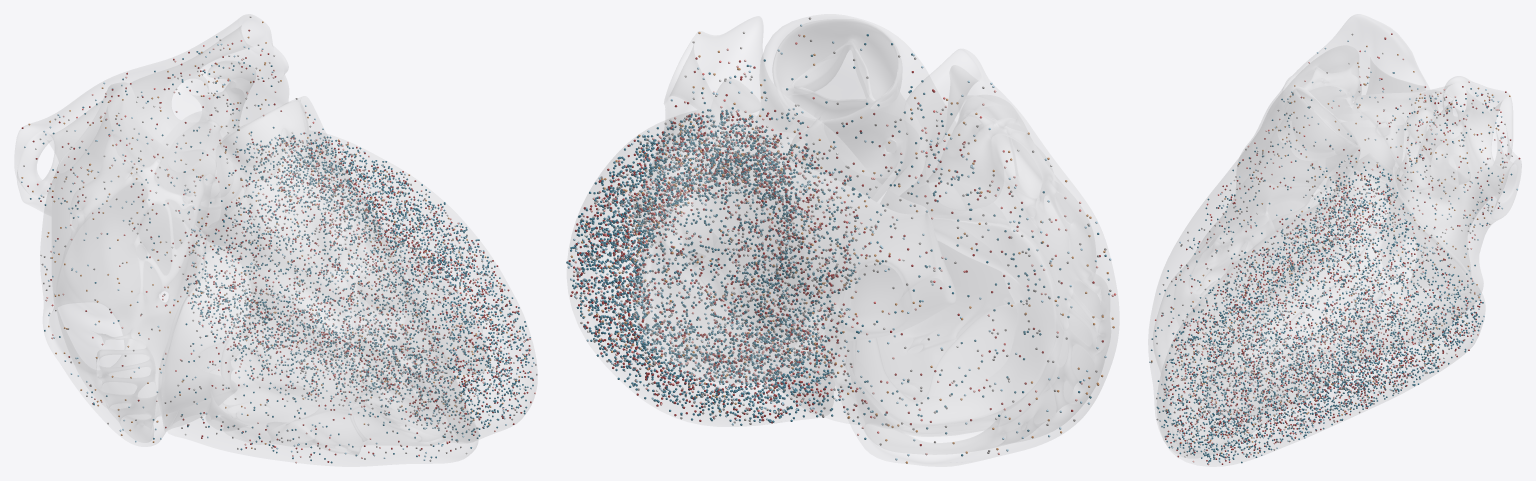
Rendered from 3d-vh-m-heart-UBERON_0000948-all-as-celltypist-sphere-hra-pop.glb.
3 views of the same model, side by side, from view 1: azimuth 30°, elevation 25°; view 2: azimuth 150°, elevation 25°; view 3: azimuth 270°, elevation 25° (orthographic). The views are drawn at different scales.
Parts seen in each view (by area): view 1: VH_M_heart_right_ventricle, VH_M_right_cardiac_atrium, VH_M_left_cardiac_atrium, VH_M_heart_left_ventricle, VH_M_tricuspid_valve, VH_M_pulmonary_valve, VH_M_aortic_valve, VH_M_papillary_muscle_of_heart_anterior, VH_M_interventricular_septum; view 2: VH_M_right_cardiac_atrium, VH_M_left_cardiac_atrium, VH_M_heart_right_ventricle, VH_M_mitral_valve, VH_M_heart_left_ventricle, VH_M_pulmonary_valve, VH_M_tricuspid_valve, VH_M_aortic_valve, VH_M_papillary_muscle_of_heart_posteromedial; view 3: VH_M_heart_left_ventricle, VH_M_heart_right_ventricle, VH_M_left_cardiac_atrium, VH_M_right_cardiac_atrium, VH_M_pulmonary_valve, VH_M_papillary_muscle_of_heart_anterolateral, VH_M_mitral_valve, VH_M_interventricular_septum, VH_M_aortic_valve, VH_M_papillary_muscle_of_heart_posteromedial, VH_M_tricuspid_valve.
Boxes of the visible parts, <box> form: VH_M_heart_right_ventricle: <box>162,96,477,466</box>; VH_M_right_cardiac_atrium: <box>40,83,215,446</box>; VH_M_left_cardiac_atrium: <box>15,14,288,215</box>; VH_M_heart_left_ventricle: <box>196,131,536,442</box>; VH_M_tricuspid_valve: <box>157,242,251,431</box>; VH_M_pulmonary_valve: <box>221,100,308,180</box>; VH_M_aortic_valve: <box>167,116,240,209</box>; VH_M_papillary_muscle_of_heart_anterior: <box>284,356,366,398</box>; VH_M_interventricular_septum: <box>209,194,478,443</box>; VH_M_right_cardiac_atrium: <box>827,49,1118,466</box>; VH_M_left_cardiac_atrium: <box>633,16,955,383</box>; VH_M_heart_right_ventricle: <box>756,14,1023,436</box>; VH_M_mitral_valve: <box>643,185,822,383</box>; VH_M_heart_left_ventricle: <box>567,110,833,426</box>; VH_M_pulmonary_valve: <box>773,19,901,119</box>; VH_M_tricuspid_valve: <box>854,219,1016,432</box>; VH_M_aortic_valve: <box>788,113,901,201</box>; VH_M_papillary_muscle_of_heart_posteromedial: <box>695,262,734,311</box>; VH_M_heart_left_ventricle: <box>1157,153,1484,466</box>; VH_M_heart_right_ventricle: <box>1148,86,1360,457</box>; VH_M_left_cardiac_atrium: <box>1355,76,1521,292</box>; VH_M_right_cardiac_atrium: <box>1236,14,1438,191</box>; VH_M_pulmonary_valve: <box>1278,88,1358,174</box>; VH_M_papillary_muscle_of_heart_anterolateral: <box>1254,234,1384,366</box>; VH_M_mitral_valve: <box>1381,166,1480,303</box>; VH_M_interventricular_septum: <box>1174,167,1388,390</box>; VH_M_aortic_valve: <box>1337,119,1403,187</box>; VH_M_papillary_muscle_of_heart_posteromedial: <box>1260,313,1378,374</box>; VH_M_tricuspid_valve: <box>1252,189,1319,229</box>.
Size of the model in its own units: 0.1245 by 0.1055 by 0.1052.
